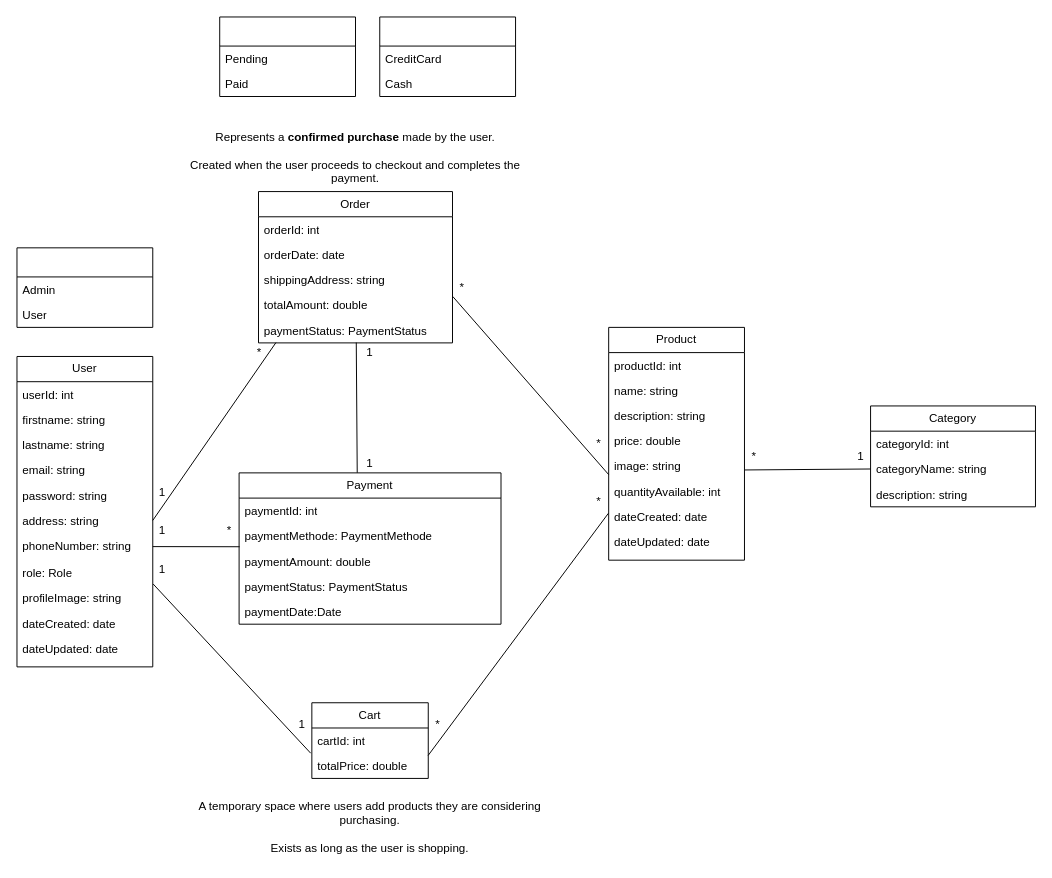
Image size: 1052x878. Some labels were removed from this diagram. Each missing label, with the box of its shape:
<<Enum>> PaymentMethode: (379, 16, 516, 97)
<<Enum>> PaymentStatus: (219, 16, 356, 97)
<<Enum>> Role: (16, 247, 153, 327)
